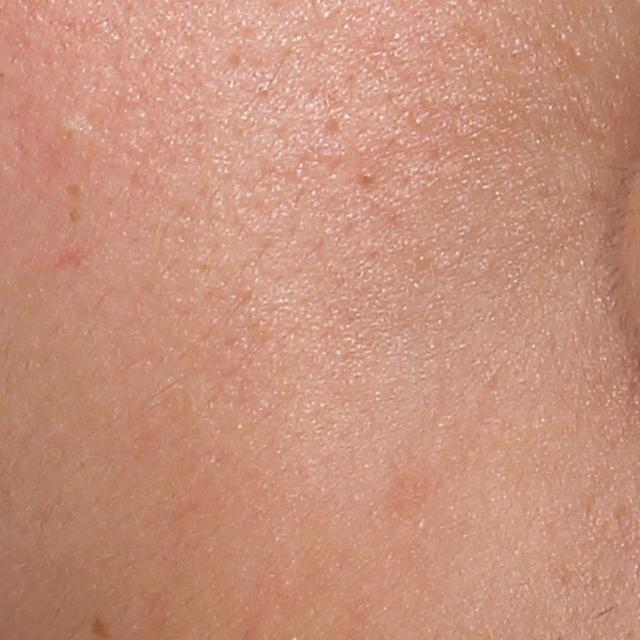comedo: (59, 118, 82, 138)
melasma: (86, 615, 115, 640)
